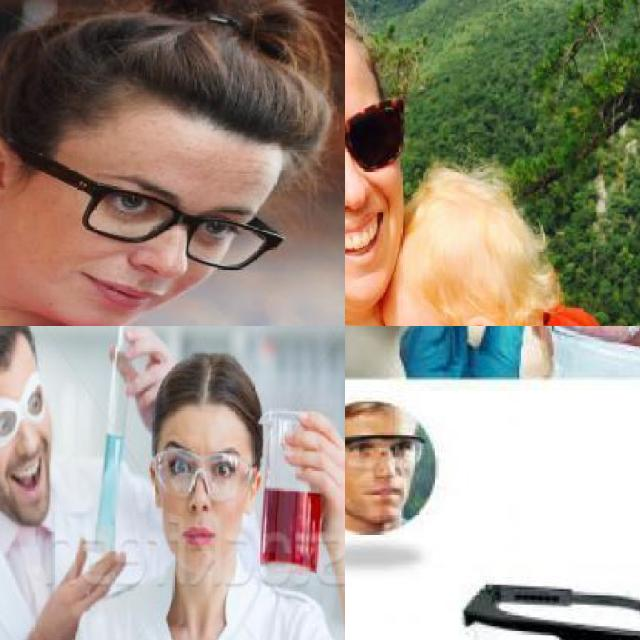No_Ear-Protection: (0, 125, 23, 212), (462, 309, 508, 326)
face_nomask: (67, 160, 239, 323), (345, 105, 398, 265), (166, 453, 244, 547), (0, 383, 57, 501), (345, 437, 419, 511)
glasses: (13, 138, 254, 260), (345, 93, 405, 199), (152, 448, 256, 504), (0, 375, 52, 449), (345, 430, 429, 474)
hand_glove: (395, 326, 535, 381)
hand_noglove: (36, 532, 129, 640), (100, 326, 182, 426), (278, 408, 345, 497)
head_nohelmet: (32, 0, 333, 151), (384, 169, 506, 276), (159, 351, 263, 426)
person: (0, 0, 300, 326), (53, 356, 345, 640), (345, 0, 492, 326), (0, 326, 140, 640)
